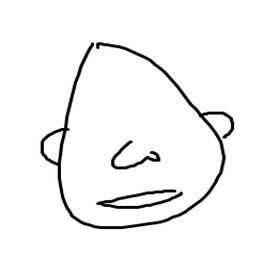ear: (30, 126, 69, 164), (201, 105, 237, 142)
nose: (106, 136, 163, 179)
open_mouth: (93, 187, 184, 212)
